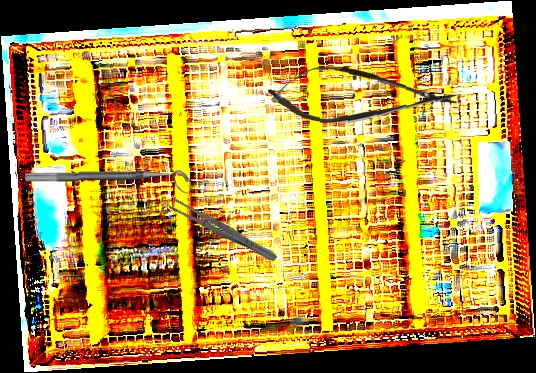Dressing Forceps: (167, 195, 280, 266)
Fixation Ring: (24, 169, 191, 196)
Micro Scissor: (267, 62, 459, 129)
